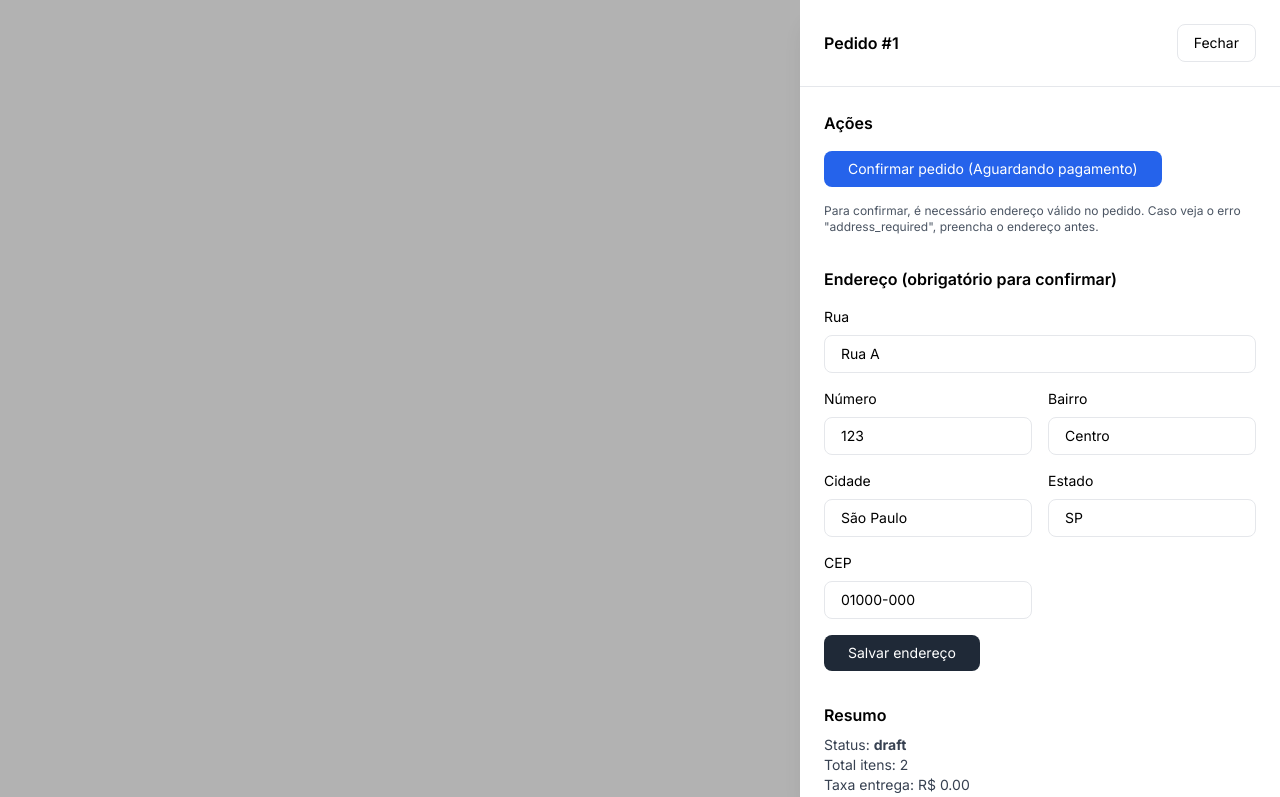
Test: OrderDrawer › confirma pedido com sucesso e atualiza detalhes
expect the heading "Resumo" is shown: met, box [824,705,886,725]
What coordinates should you click on to do the following:
click the button "Confirmar pedido (Aguardando pagamento)"
I would click on:
 (993, 169)
Its box is [824,151,1162,187].
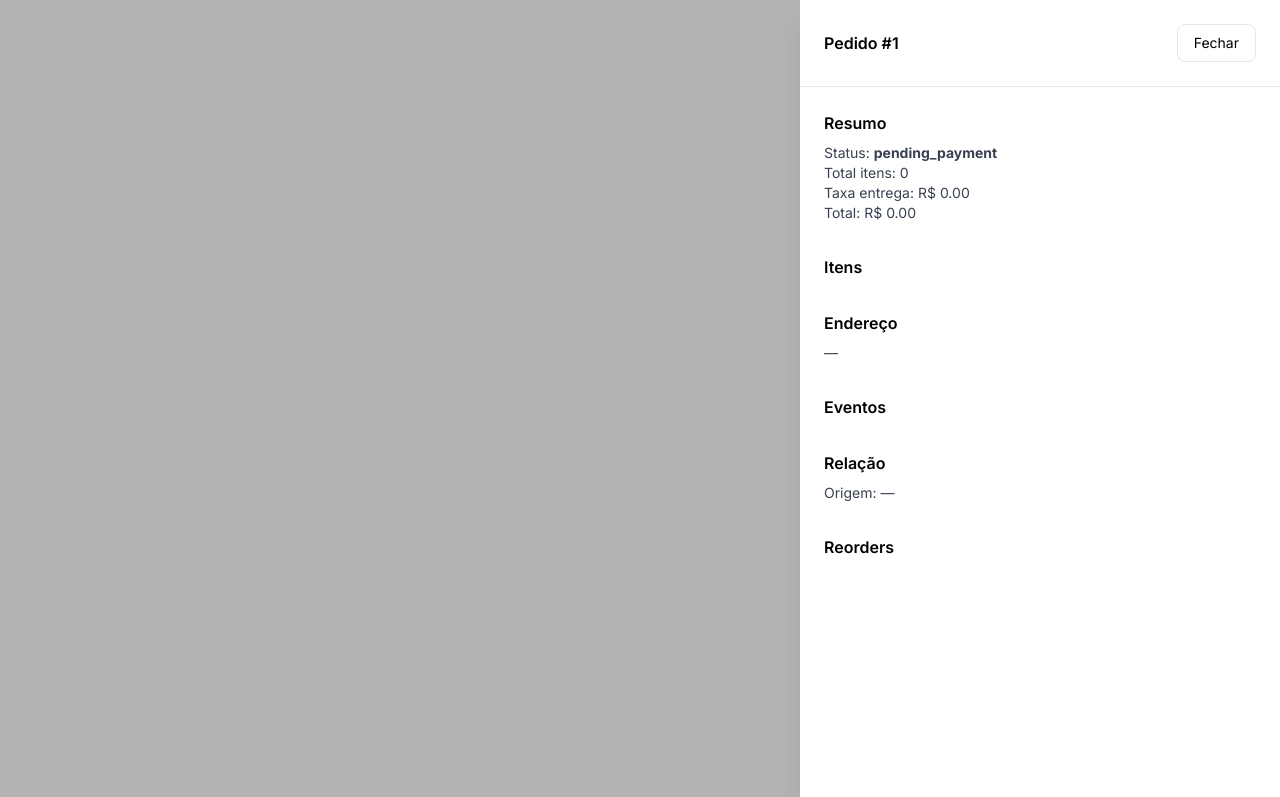
expect the text "Status:" shows "pending_payment": met, box [874,144,997,161]
